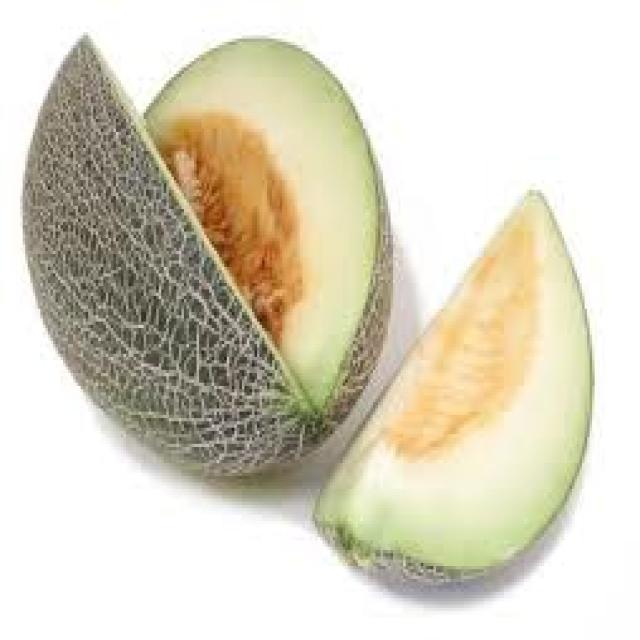melon: (18, 13, 590, 617)
